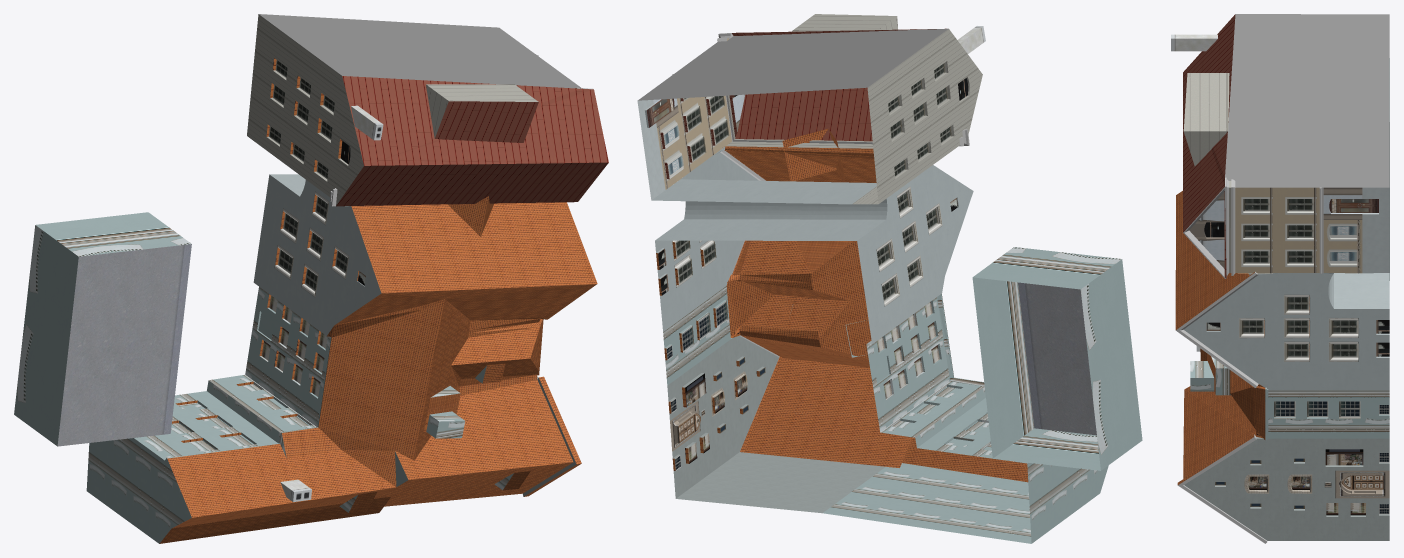
Rendered from Ryytli_tn_6_IS.obj.
The picture shows the model from 3 angles, left to right: view 1: azimuth 30°, elevation 25°; view 2: azimuth 150°, elevation 25°; view 3: azimuth 270°, elevation 25°; orthographic projection. The views are drawn at different scales.
Visible parts, largest first — view 1: Ryytli_tn_6_IS; view 2: Ryytli_tn_6_IS; view 3: Ryytli_tn_6_IS.
Boxes of the visible parts, x1,y1,x2,y2 form: Ryytli_tn_6_IS: (14, 14, 608, 543); Ryytli_tn_6_IS: (637, 14, 1142, 543); Ryytli_tn_6_IS: (1171, 14, 1389, 543).
Size of the model in its own units: 44.5 by 41.84 by 18.87.
